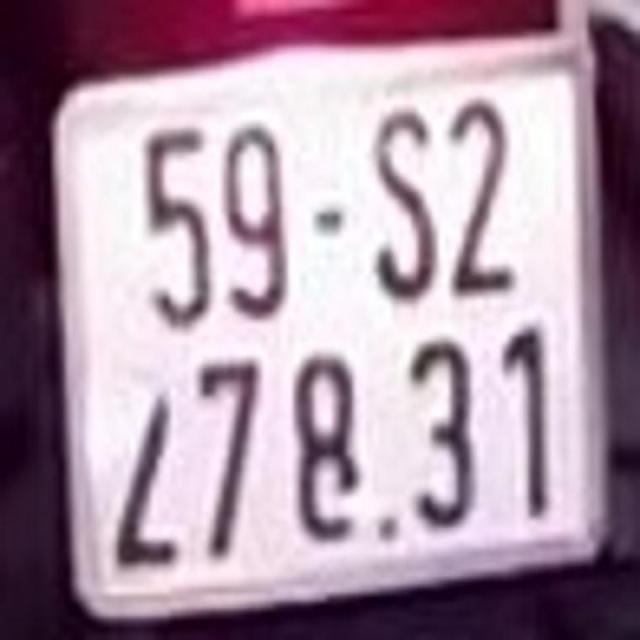1: (500, 324, 555, 511)
2: (113, 361, 178, 561), (451, 98, 516, 295)
3: (406, 332, 480, 518)
5: (142, 127, 212, 320)
7: (195, 362, 253, 554)
8: (290, 354, 366, 541)
9: (222, 127, 288, 320)
S: (374, 110, 439, 292)
